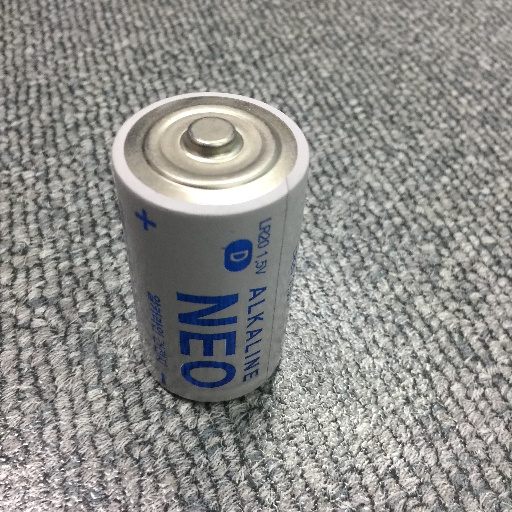Battery_0: (107, 84, 319, 415)
